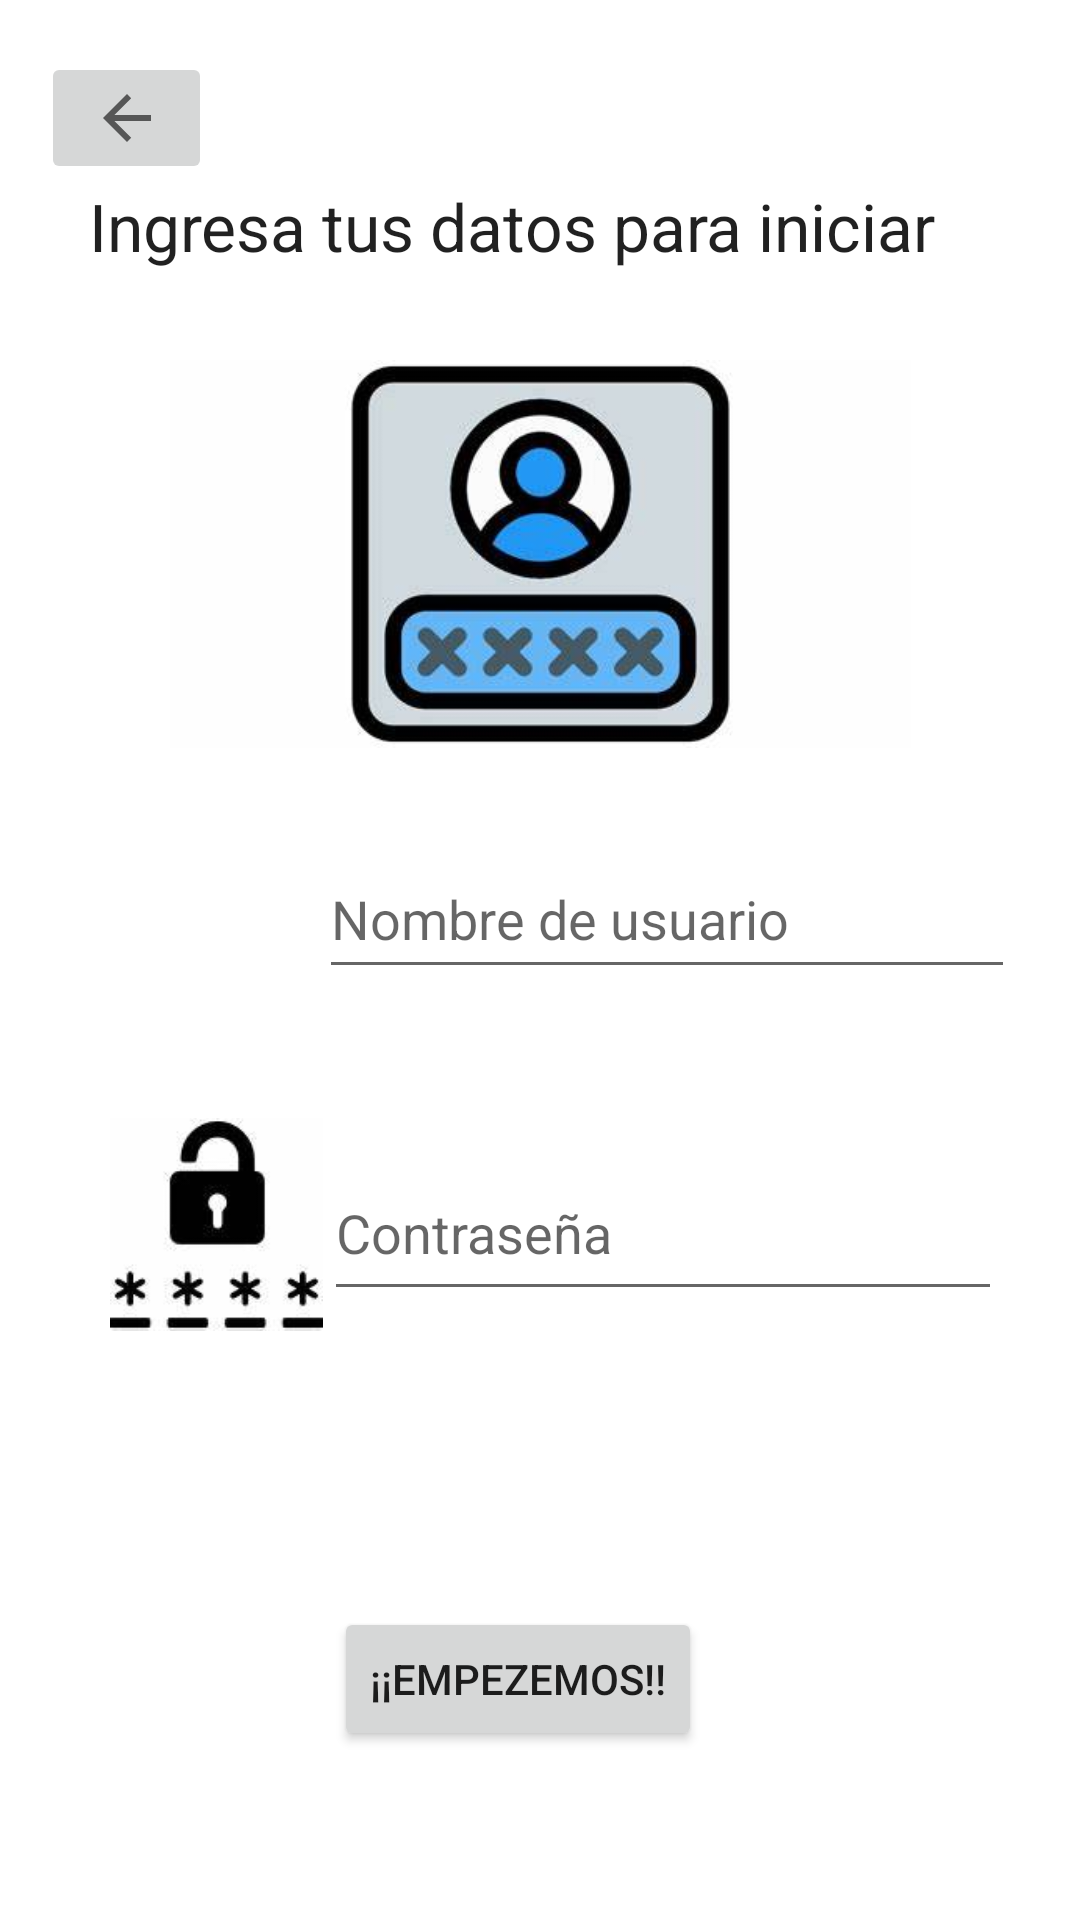

Named icons in this screenshot (1080×1920) and their centers, [x,y]:
contrasena: [216,1225]
